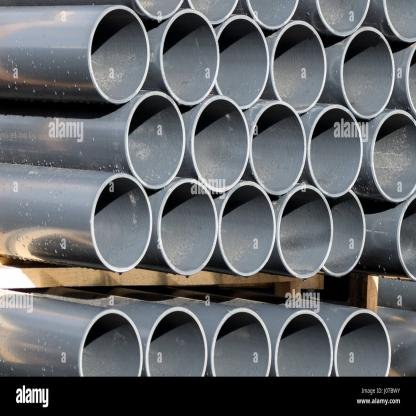PVC: (1, 2, 416, 377)
